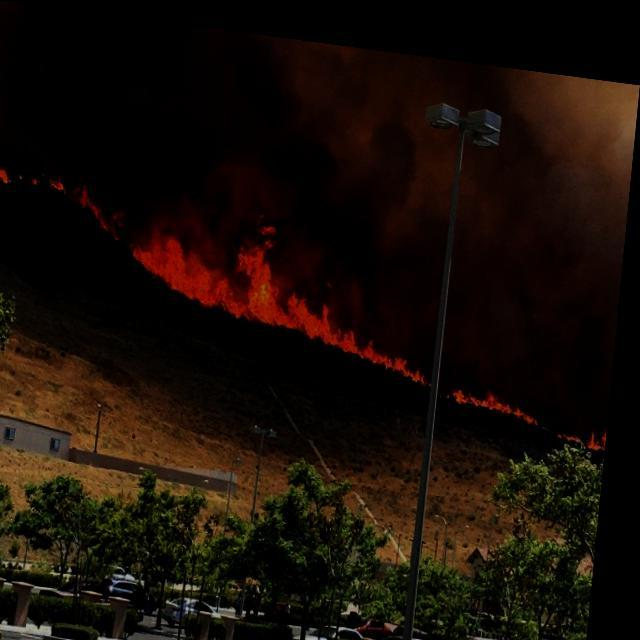Fire: (135, 209, 445, 378), (0, 160, 125, 238), (457, 370, 612, 432)
